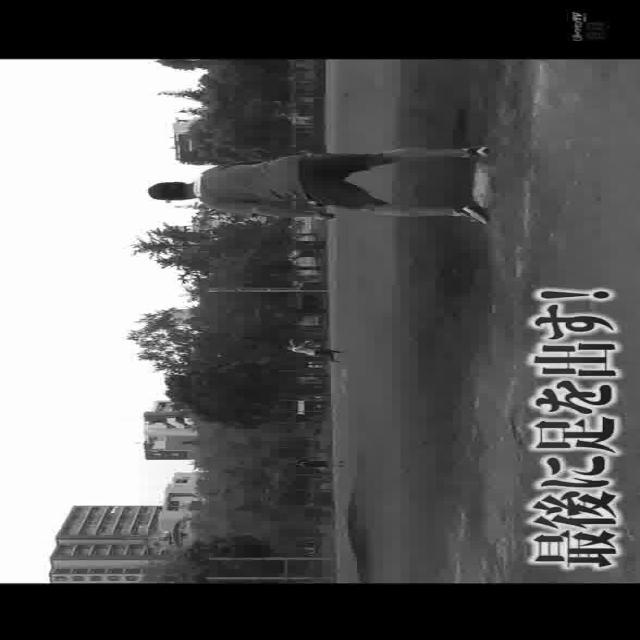base: (474, 160, 494, 208)
shoe: (458, 204, 490, 224), (461, 144, 495, 158)
